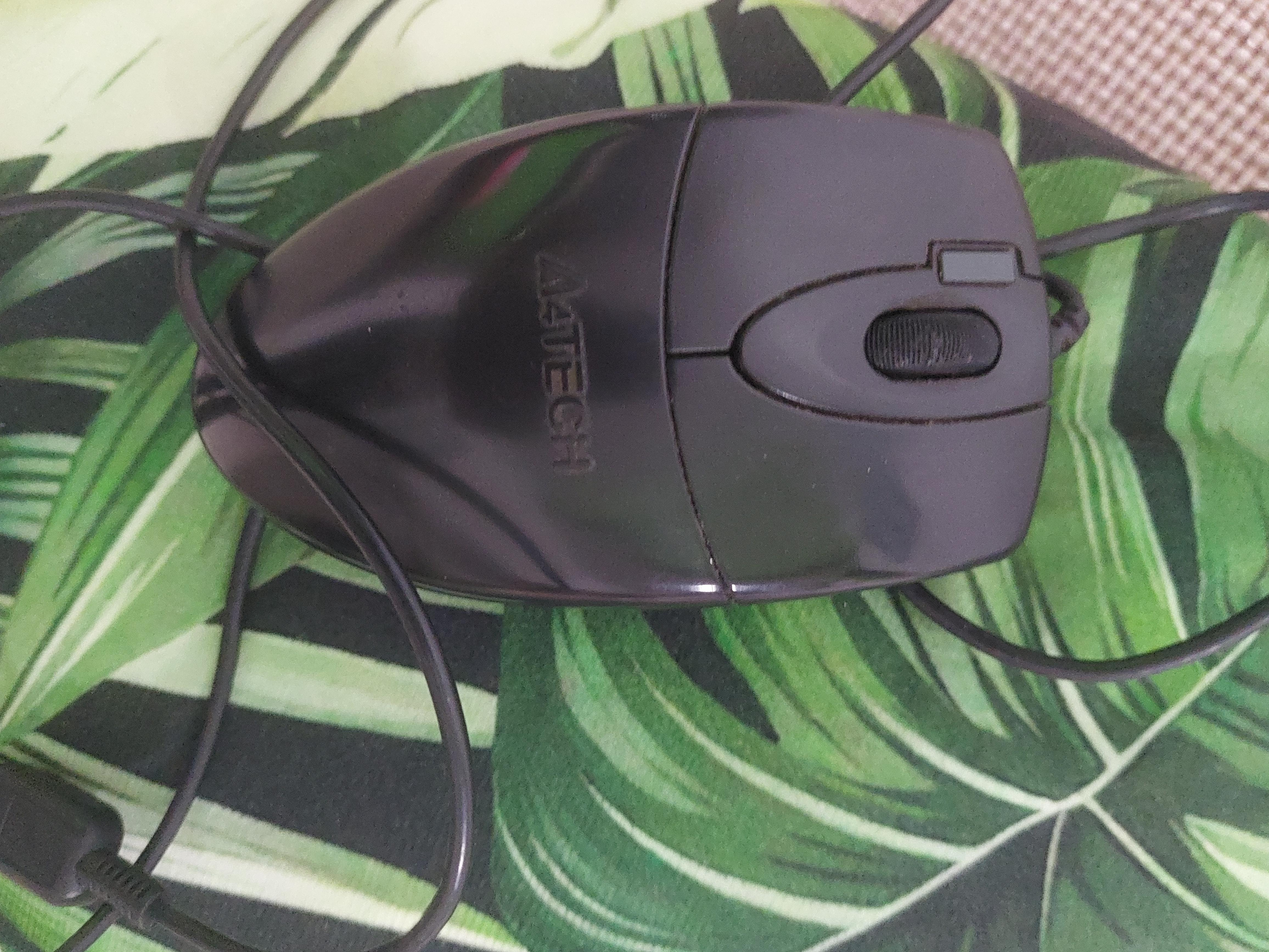mouse: (190, 99, 1055, 610)
